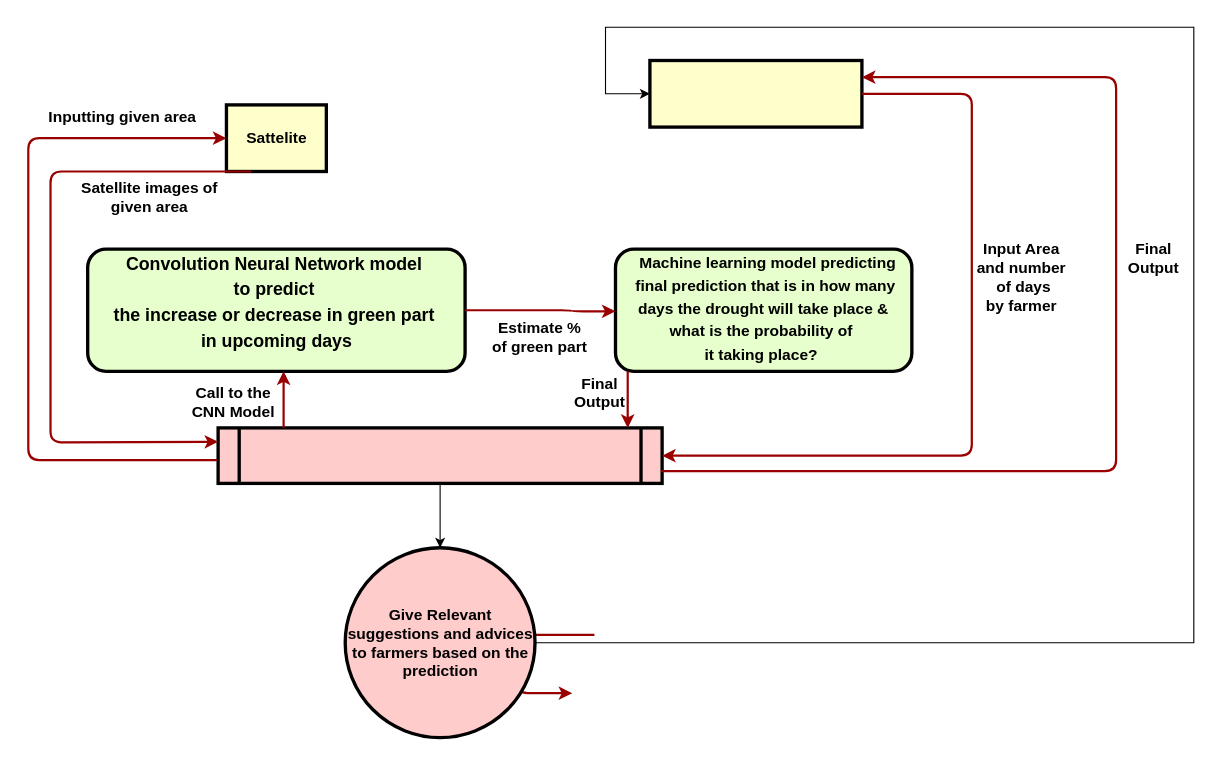
Image size: 1222x758. Some labels were removed from this diagram. The centre of each missing label's shape, as x and y in pixels:
Android Application: (x=755, y=93)
FLASK WEB SERVER: (x=439, y=455)
